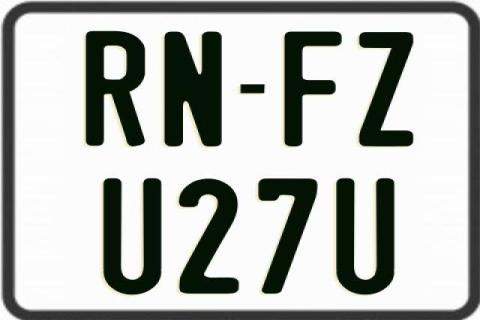0: (257, 178, 322, 298), (177, 176, 241, 294)
F: (284, 30, 348, 148)
N: (161, 30, 221, 146)
R: (83, 29, 144, 149)
U: (101, 176, 160, 295), (335, 177, 393, 296)
Z: (359, 32, 418, 150)
